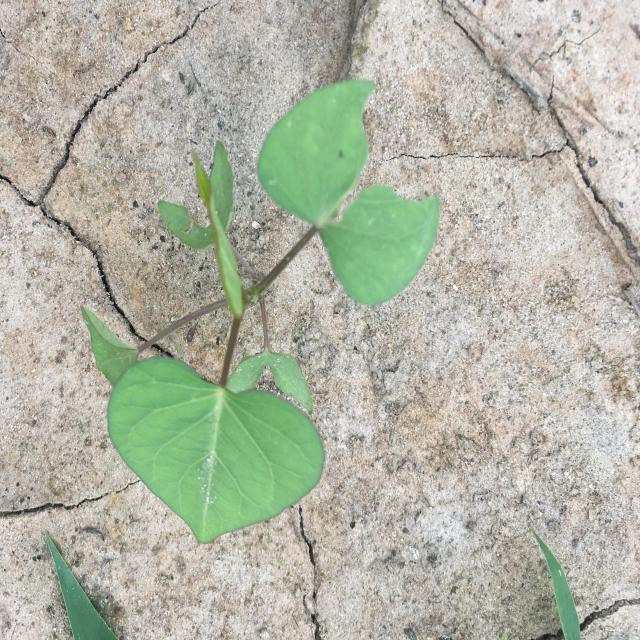MorningGlory: (82, 80, 440, 545)
